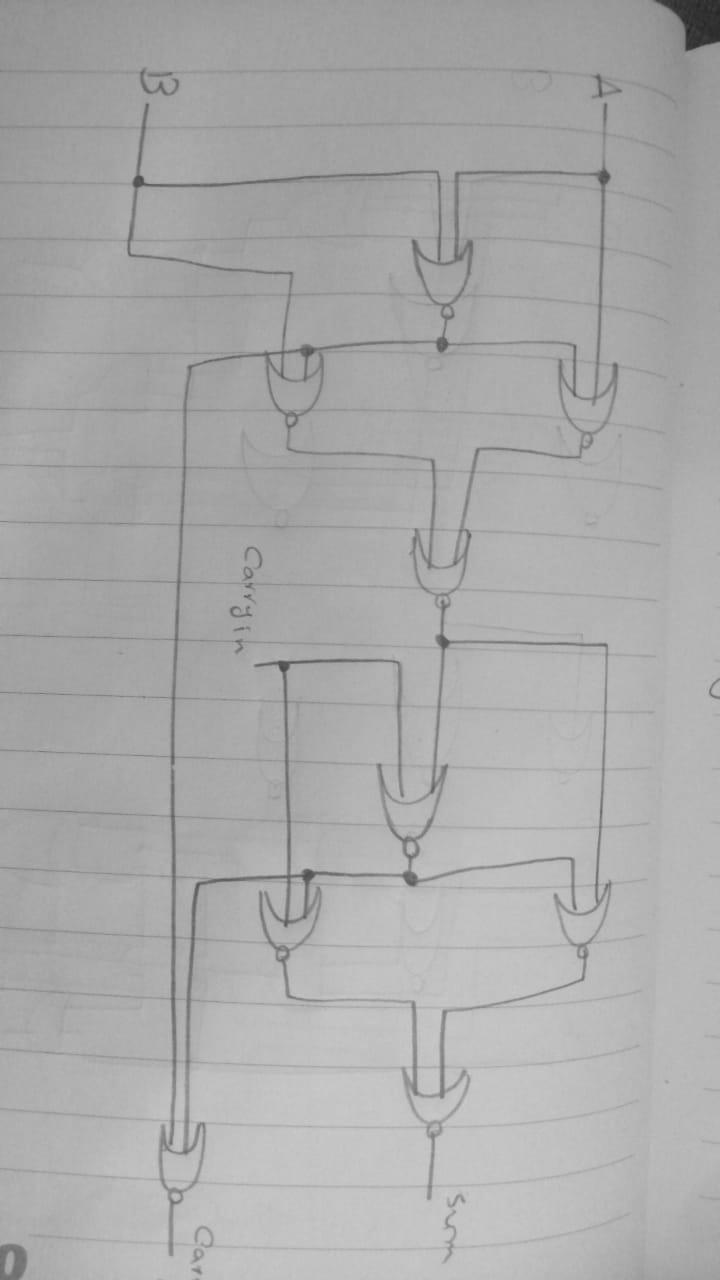NOR: (135, 1090, 234, 1221), (355, 750, 468, 860), (400, 213, 501, 328), (403, 503, 499, 620), (383, 1055, 497, 1148), (542, 358, 645, 455), (243, 882, 346, 977), (545, 885, 643, 976), (258, 350, 349, 441)
